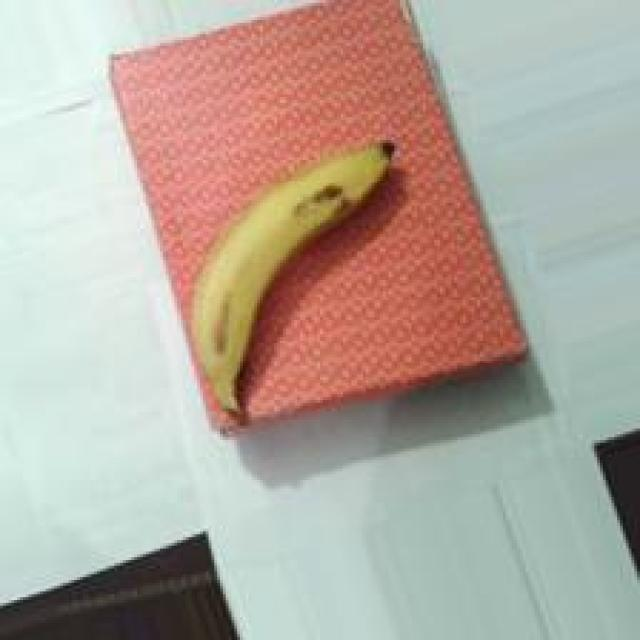banana: (113, 117, 484, 478)
